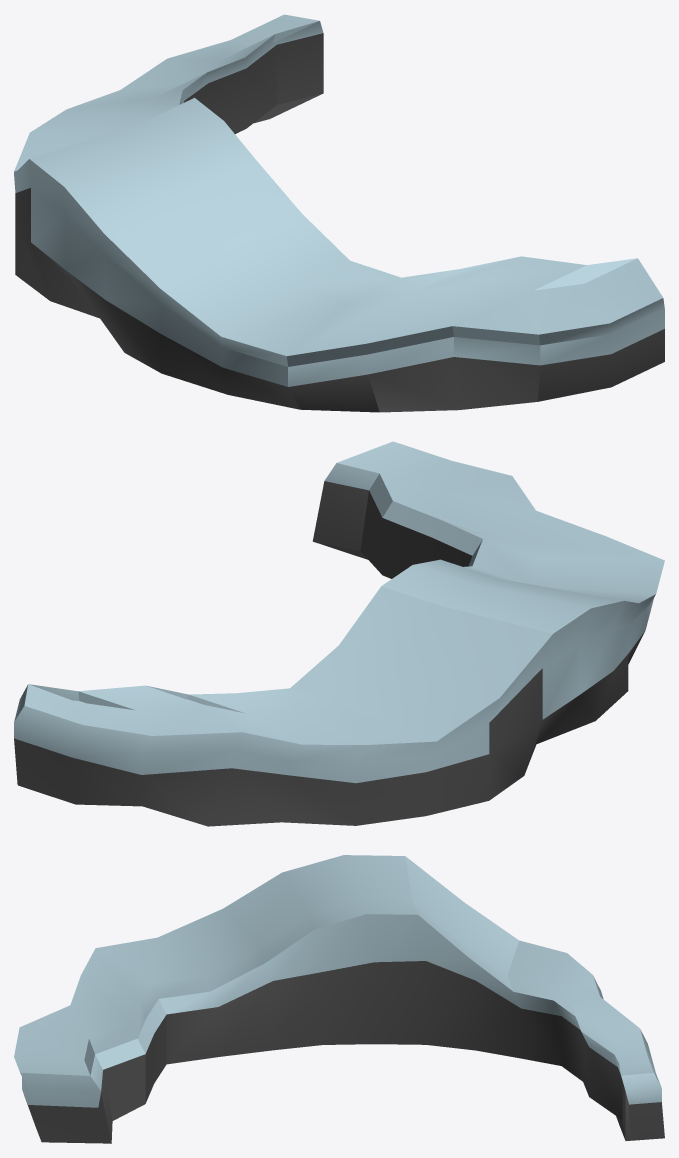
File: snow5.fbx
3 renders of one model, top to bottom at view 1: azimuth 30°, elevation 25°; view 2: azimuth 150°, elevation 25°; view 3: azimuth 270°, elevation 25°, orthographic. The views are drawn at different scales.
Visible parts, largest first — view 1: frozen_lake.002; view 2: frozen_lake.002; view 3: frozen_lake.002.
Boxes of the visible parts, bbox=[...] form: frozen_lake.002: bbox=[14, 14, 664, 412]; frozen_lake.002: bbox=[14, 441, 664, 826]; frozen_lake.002: bbox=[14, 855, 664, 1143].
Bounding box in the file's own units: 404 × 148 × 637.
